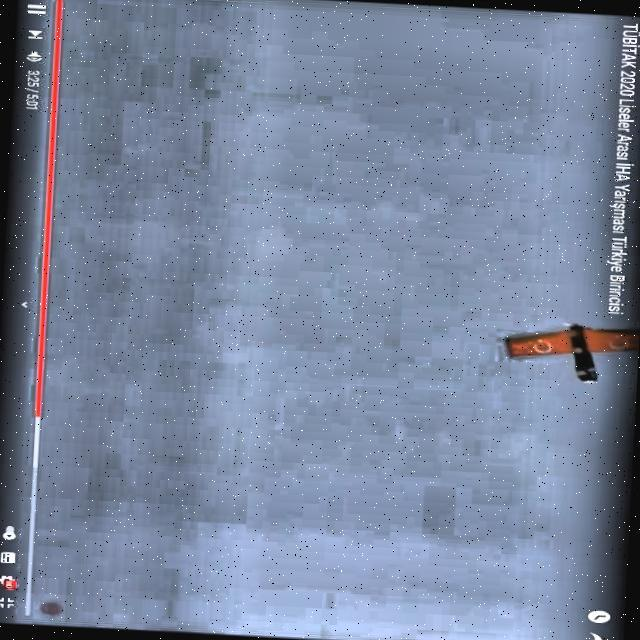iha: (490, 342, 634, 367)
